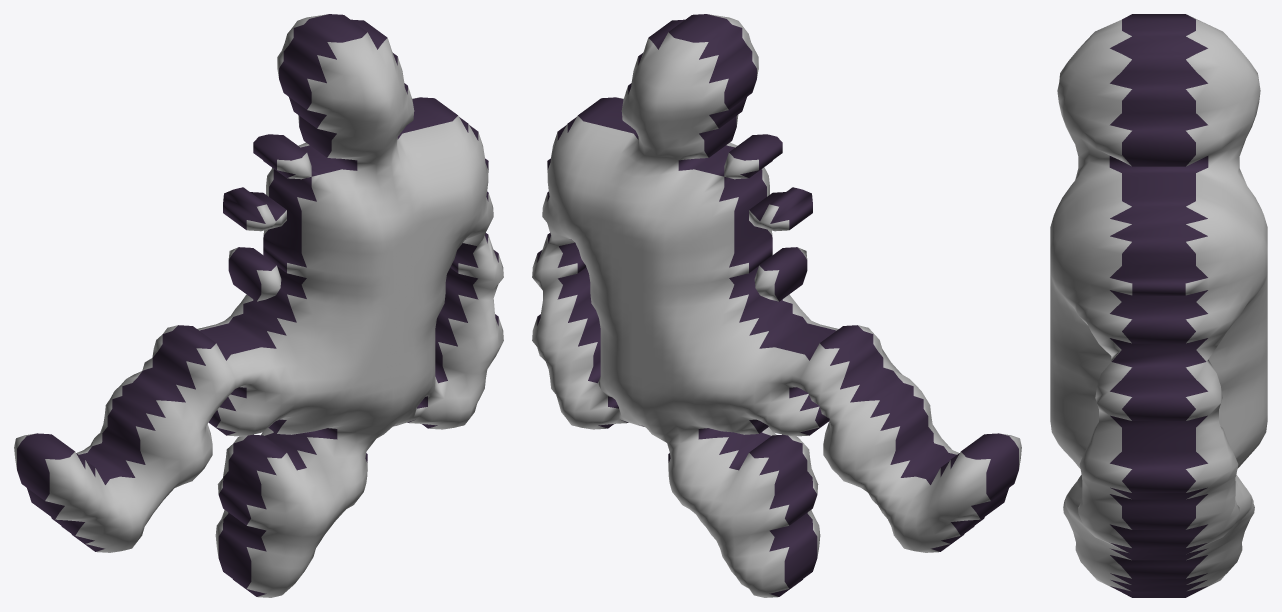
Rendered from skeleton_leather.glb.
The picture shows the model from 3 angles, left to right: view 1: azimuth 30°, elevation 25°; view 2: azimuth 150°, elevation 25°; view 3: azimuth 270°, elevation 25°; orthographic projection. The views are drawn at different scales.
Parts seen in each view (by area): view 1: skeleton_leather; view 2: skeleton_leather; view 3: skeleton_leather.
Part boxes in pixels (x1,y1,x2,y2): skeleton_leather: (14,14,503,597); skeleton_leather: (532,14,1021,597); skeleton_leather: (1050,14,1267,597).
Bounding box in the file's own units: 0.6058 × 0.6865 × 0.2211.
